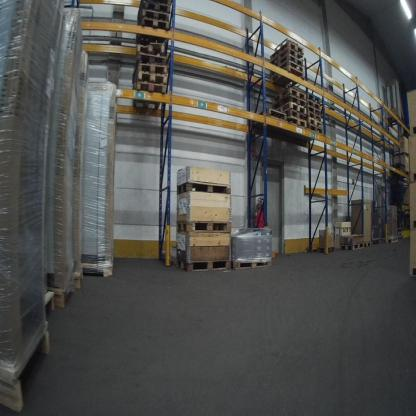pallet: (1, 332, 55, 415), (174, 177, 233, 200), (132, 81, 166, 112), (136, 15, 168, 46), (250, 109, 287, 135), (86, 255, 118, 284), (177, 256, 231, 273), (232, 255, 272, 276), (131, 64, 166, 88), (269, 40, 304, 64), (268, 49, 305, 71), (176, 218, 234, 232), (273, 85, 306, 108), (270, 58, 305, 79), (272, 71, 305, 90), (52, 274, 76, 297), (135, 51, 169, 65), (66, 262, 85, 287), (137, 43, 168, 58), (141, 2, 172, 17), (280, 120, 307, 137), (137, 71, 167, 86), (138, 8, 169, 21), (279, 102, 306, 116), (272, 65, 306, 75), (302, 124, 323, 139), (283, 97, 309, 109), (340, 240, 364, 253), (45, 291, 54, 320), (284, 112, 307, 122), (306, 116, 323, 129), (303, 90, 321, 102), (380, 235, 397, 247), (392, 168, 406, 179), (306, 110, 323, 119), (389, 115, 402, 126), (306, 105, 320, 115), (307, 101, 322, 109), (360, 242, 370, 253), (394, 236, 403, 240), (398, 165, 404, 170), (397, 232, 402, 236)
stillage: (368, 212, 383, 248)
